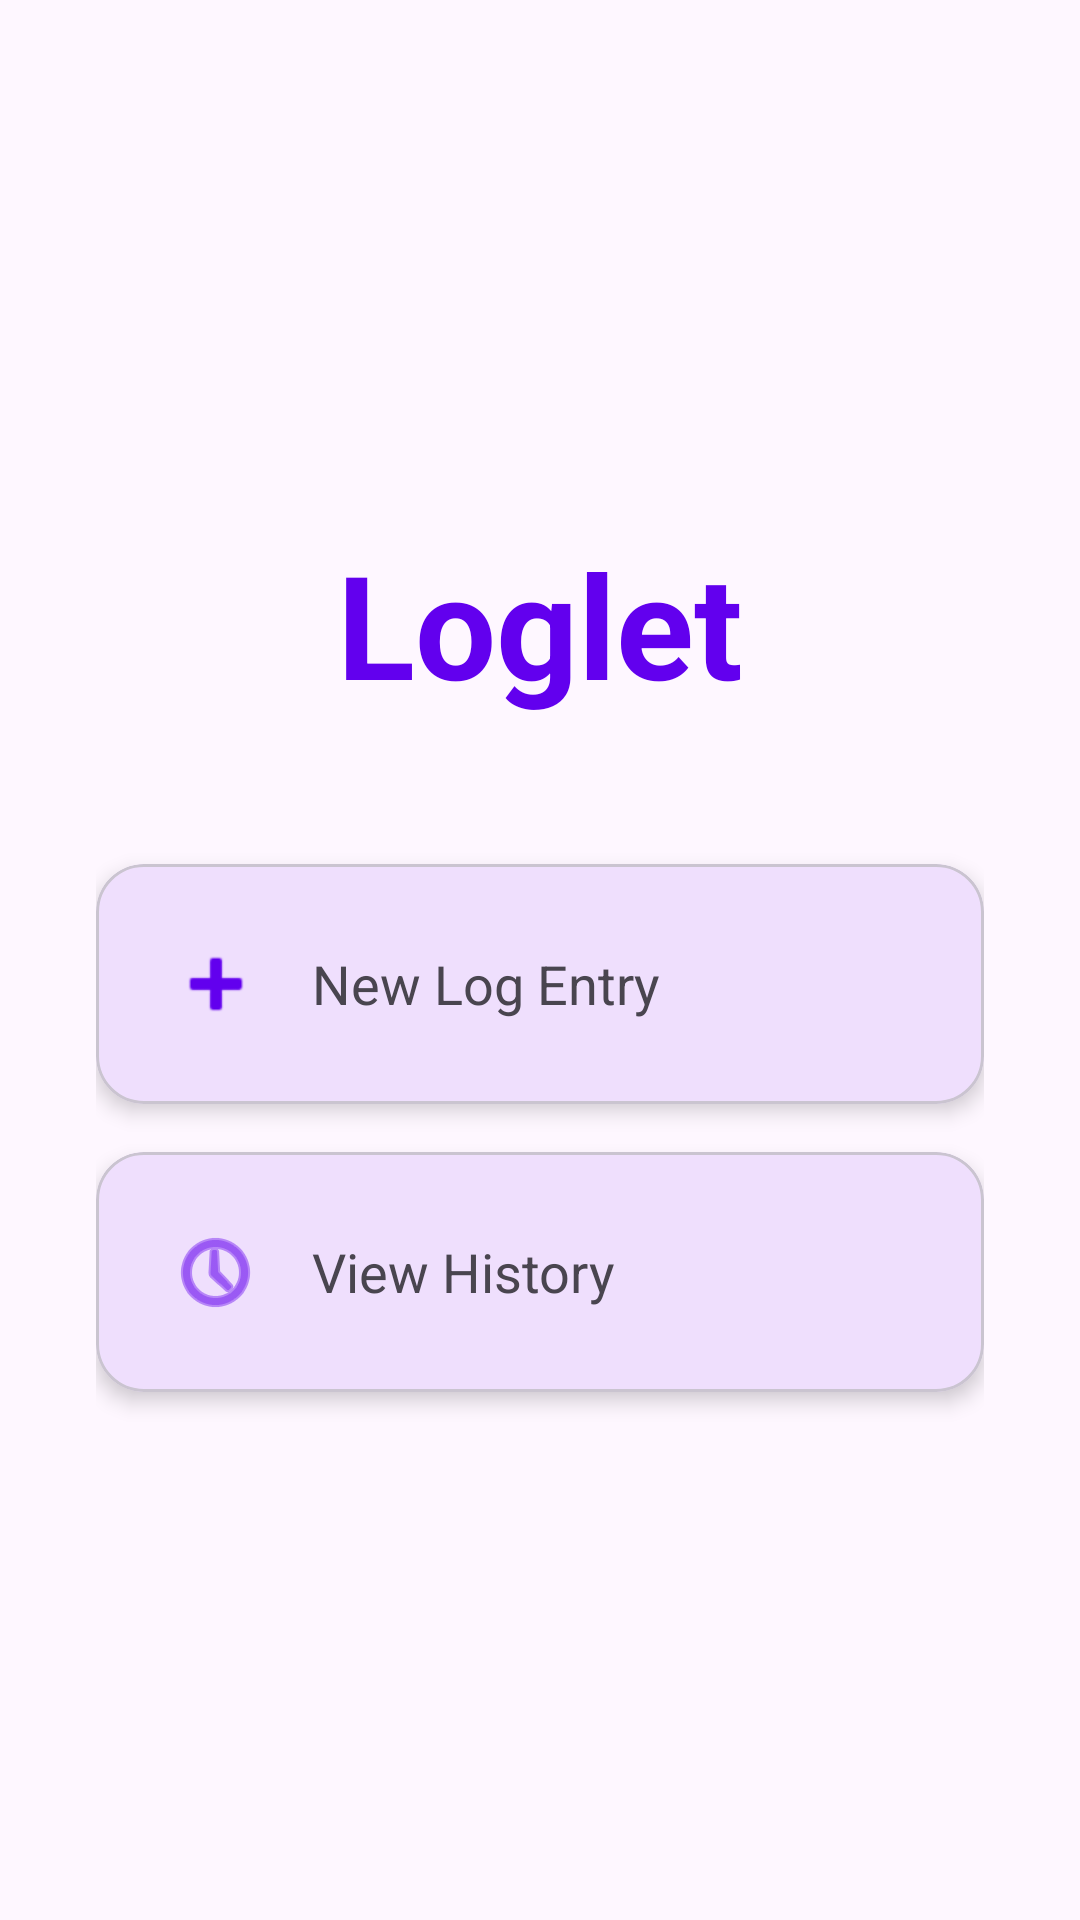

Where icons sit on this 1080×1920 app screen, as (x1, y1, x2, y2):
add: (189, 957, 243, 1011)
recent history: (181, 1238, 250, 1307)
